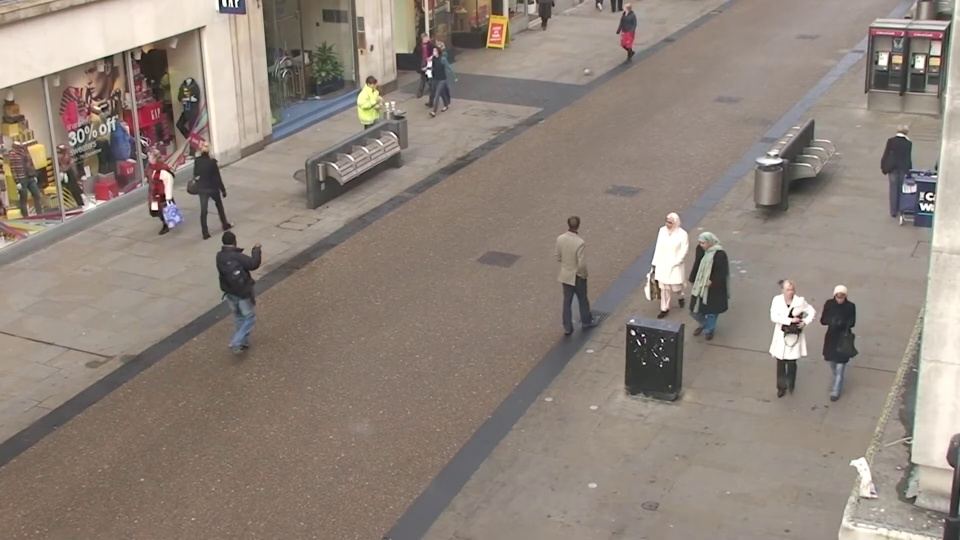pedestrian: (808, 281, 861, 421), (759, 279, 809, 418), (219, 219, 266, 340), (679, 231, 722, 357), (647, 210, 687, 331), (561, 209, 599, 331), (876, 118, 920, 218), (129, 149, 172, 251), (199, 134, 238, 232), (358, 74, 388, 157), (420, 46, 447, 121), (423, 40, 450, 114), (411, 32, 437, 103), (612, 2, 634, 67)
